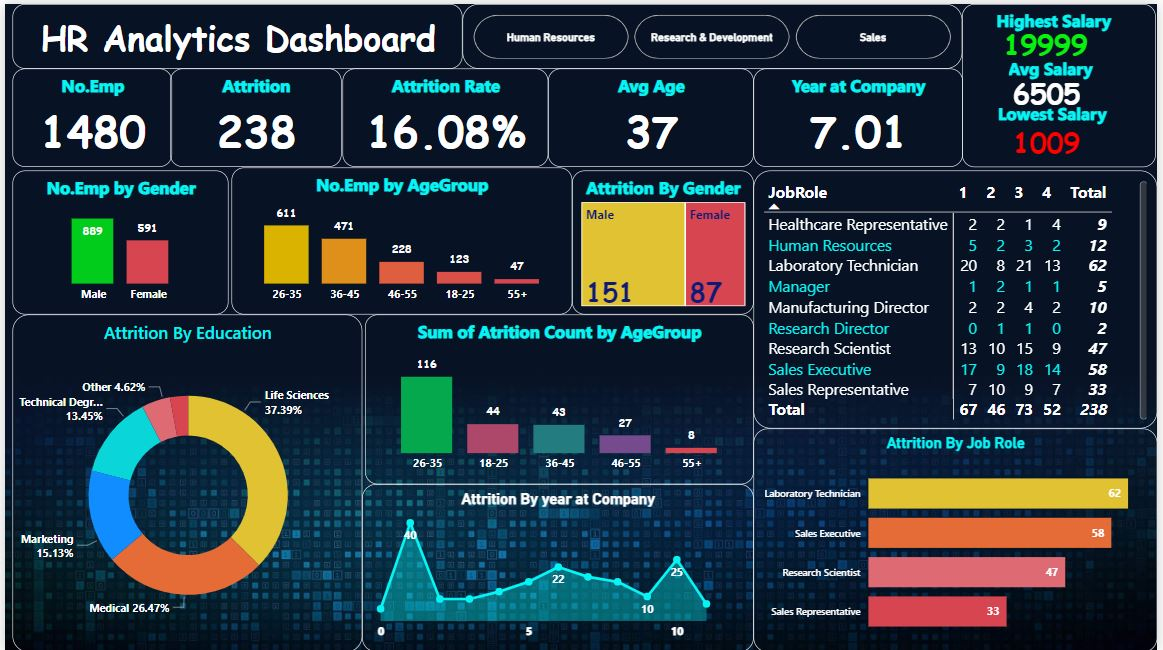

This screenshot's page, from the dashboard's own definition file:
{"tool":"powerbi","page":{"name":"Page 1","canvas":[1280,720],"ordinal":0},"visuals":[{"type":"card","title":"No.Emp","fields":{"Values":["calculation.Total_employee"]},"box":[7.6,71.8,177.6,109.6],"z":0},{"type":"card","title":"Attrition","fields":{"Values":["calculation.atrition"]},"box":[183.3,71.8,190.9,109.6],"z":1000},{"type":"card","title":"Attrition Rate","fields":{"Values":["calculation.atriation_rate"]},"box":[374.2,71.8,228.7,109.6],"z":2000},{"type":"card","title":"Avg Age","fields":{"Values":["calculation.Avg Age"]},"box":[602.8,71.8,228.7,109.6],"z":3000},{"type":"card","title":"Year at Company","fields":{"Values":["Avg(HR_Analytics.YearsAtCompany)"]},"box":[831.5,71.8,232.4,109.6],"z":4000},{"type":"donutChart","title":"Attrition By Education","fields":{"Y":["Sum(HR_Analytics.Atrition Count)"],"Category":["HR_Analytics.EducationField"]},"box":[8.3,345,388.3,375],"z":5000},{"type":"columnChart","fields":{"Category":["HR_Analytics.AgeGroup"],"Y":["Sum(HR_Analytics.Atrition Count)"]},"box":[400,345,431.7,188.3],"z":6000},{"type":"pivotTable","fields":{"Rows":["HR_Analytics.JobRole"],"Columns":["HR_Analytics.JobSatisfaction"],"Values":["Sum(HR_Analytics.Atrition Count)"]},"box":[831.7,185,448.3,286.7],"z":7000},{"type":"clusteredBarChart","title":"Attrition By Job Role","fields":{"Category":["HR_Analytics.JobRole"],"Y":["Sum(HR_Analytics.Atrition Count)"]},"box":[831.7,471.7,448.3,248.3],"z":8000},{"type":"stackedAreaChart","title":"Attrition By year at Company","fields":{"Y":["Sum(HR_Analytics.Atrition Count)"],"Category":["HR_Analytics.TotalWorkingYears"]},"box":[396.7,533.3,435,186.7],"z":9000},{"type":"columnChart","title":"No.Emp by Gender","fields":{"Y":["calculation.Total_employee"],"Category":["HR_Analytics.Gender"]},"box":[8.3,185,240,160],"z":10000},{"type":"shape","box":[1063.9,0,215.4,181.4],"z":11000},{"type":"card","fields":{"Values":["calculation.avg salary"]},"box":[1063.9,0,187.1,198.4],"z":12000},{"type":"card","fields":{"Values":["calculation.lowest salary"]},"box":[1063.9,52.9,187.1,200.3],"z":13000},{"type":"card","fields":{"Values":["calculation.highest salary"]},"box":[1079.1,9.4,155,69.9],"z":14000},{"type":"textbox","box":[1096.1,0,153.1,37.8],"z":15000},{"type":"textbox","box":[1109.3,52.9,153.1,37.8],"z":16000},{"type":"textbox","box":[1098,103.9,153.1,37.8],"z":17000},{"type":"columnChart","title":"No.Emp by AgeGroup","fields":{"Category":["HR_Analytics.AgeGroup"],"Y":["calculation.Total_employee"]},"box":[251.7,181.7,378.3,163.3],"z":18000},{"type":"treemap","title":"Attrition By Gender","fields":{"Group":["HR_Analytics.Gender"],"Values":["Sum(HR_Analytics.Atrition Count)"]},"box":[630,185,201.7,160],"z":19000},{"type":"textbox","box":[8.3,0,500,71.7],"z":20000},{"type":"advancedSlicerVisual","fields":{"Values":["HR_Analytics.Department"]},"box":[508.3,0,555,71.7],"z":20001}]}

Visuals, with their boxes in screenshot pixels (x1, y1, x2, y2), scaled from the page's 1280x720 canvas onto the 1163x650 screenshot:
"No.Emp" card: box=[7, 65, 168, 164]
"Attrition" card: box=[167, 65, 340, 164]
"Attrition Rate" card: box=[340, 65, 548, 164]
"Avg Age" card: box=[548, 65, 755, 164]
"Year at Company" card: box=[755, 65, 967, 164]
"Attrition By Education" donutChart: box=[8, 311, 360, 649]
columnChart - HR_Analytics.AgeGroup x Sum(HR_Analytics.Atrition Count): box=[363, 311, 756, 481]
pivotTable - HR_Analytics.JobRole x HR_Analytics.JobSatisfaction: box=[756, 167, 1162, 426]
"Attrition By Job Role" clusteredBarChart: box=[756, 426, 1162, 649]
"Attrition By year at Company" stackedAreaChart: box=[360, 481, 756, 649]
"No.Emp by Gender" columnChart: box=[8, 167, 226, 311]
shape: box=[967, 0, 1162, 164]
card - calculation.avg salary: box=[967, 0, 1137, 179]
card - calculation.lowest salary: box=[967, 48, 1137, 229]
card - calculation.highest salary: box=[980, 8, 1121, 72]
textbox: box=[996, 0, 1135, 34]
textbox: box=[1008, 48, 1147, 82]
textbox: box=[998, 94, 1137, 128]
"No.Emp by AgeGroup" columnChart: box=[229, 164, 572, 311]
"Attrition By Gender" treemap: box=[572, 167, 756, 311]
textbox: box=[8, 0, 462, 65]
advancedSlicerVisual - HR_Analytics.Department: box=[462, 0, 966, 65]
